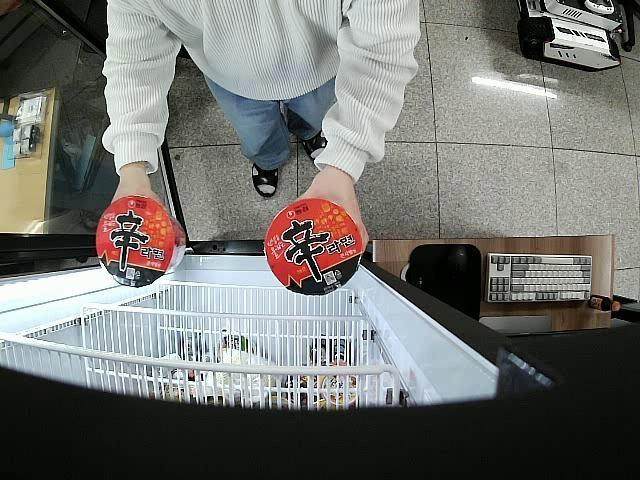01_ShinRamen_L: (264, 198, 364, 297), (95, 194, 189, 288)
